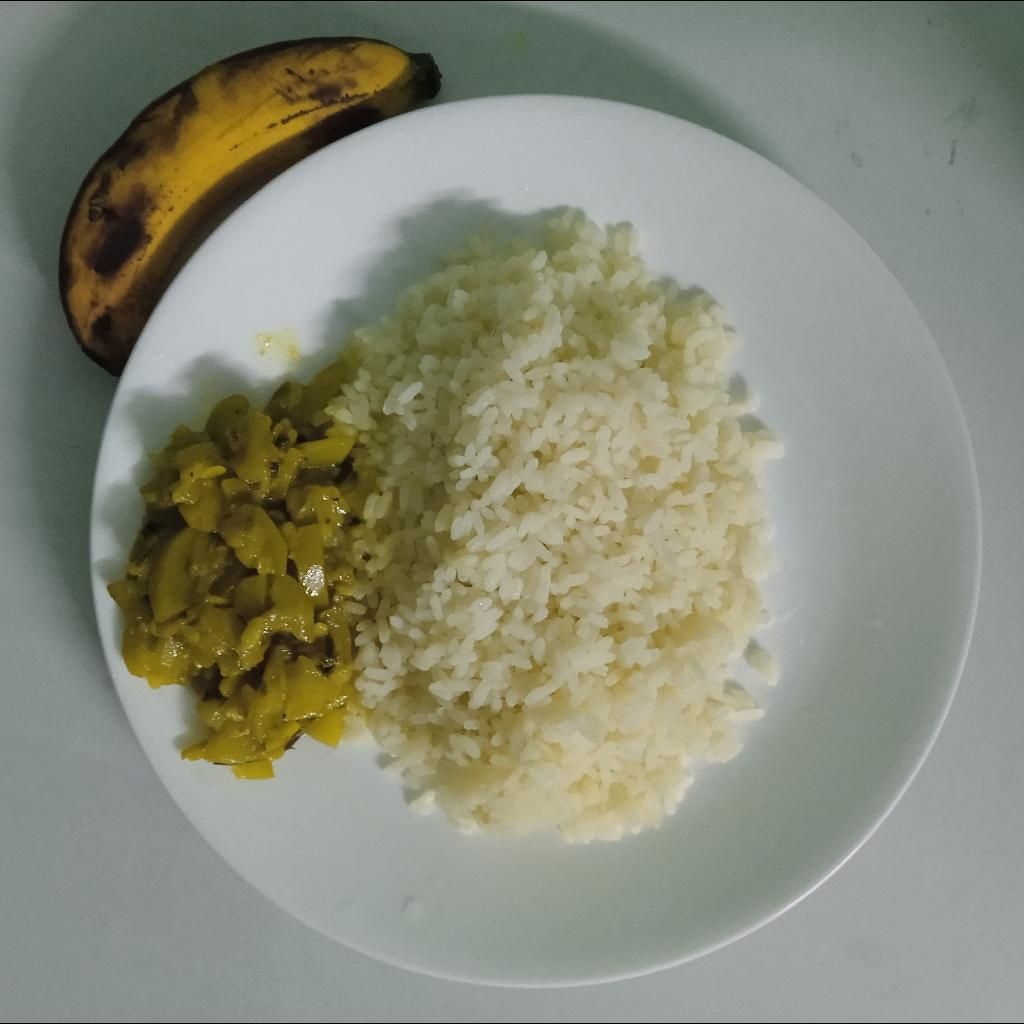banana: (60, 37, 442, 380)
dundol: (108, 363, 357, 785)
rice: (334, 208, 784, 850)
